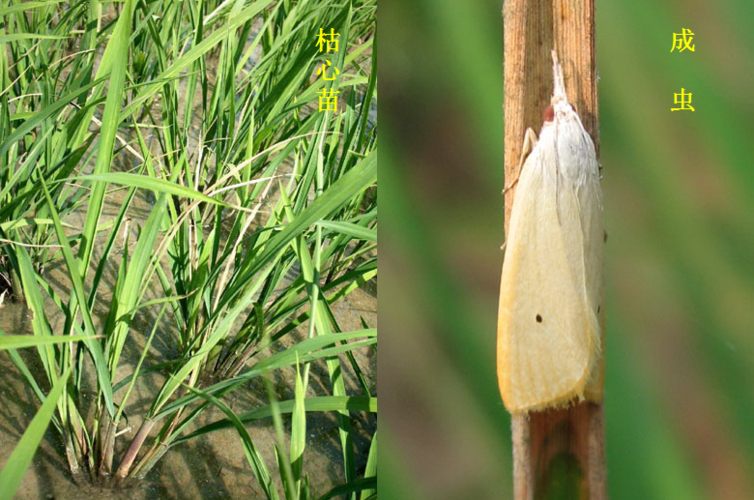Crambidae: (497, 55, 608, 414)
